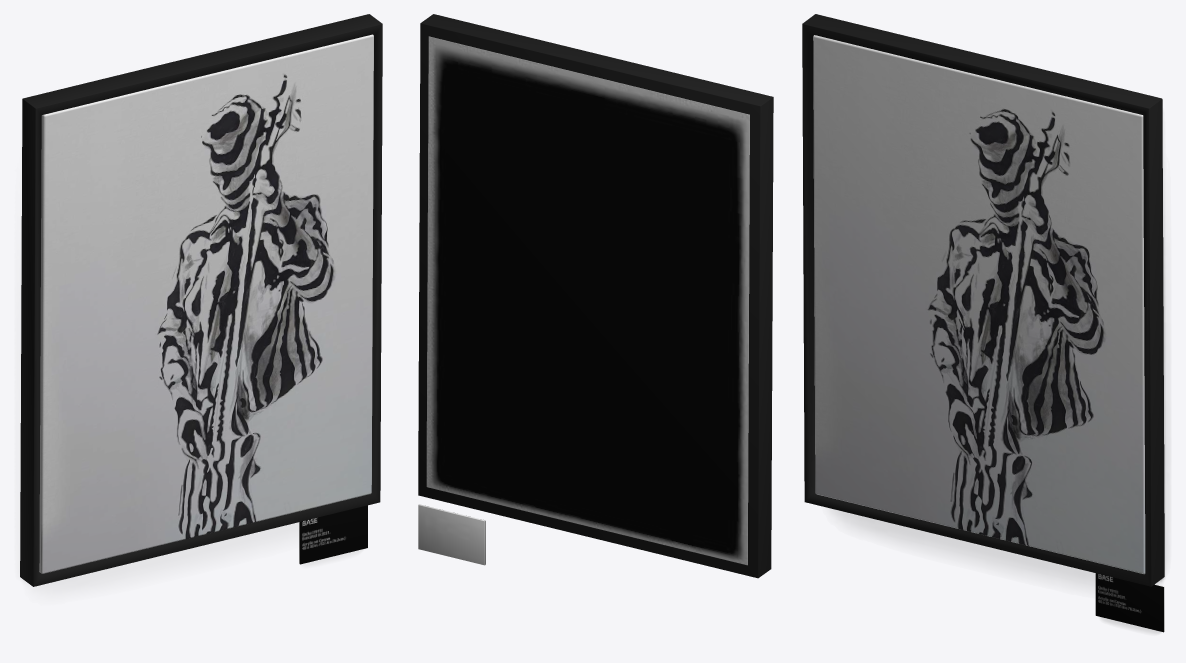
3 renders of one model, left to right at view 1: azimuth 30°, elevation 25°; view 2: azimuth 150°, elevation 25°; view 3: azimuth 330°, elevation 25°, orthographic. The views are drawn at different scales.
Visible parts, largest first — view 1: Canvas, frame, shadow, tag; view 2: Canvas, frame, tag; view 3: Canvas, frame, shadow, tag.
Part boxes in pixels (x1,y1,x2,y2): Canvas: (39,34,373,573); frame: (20,14,382,586); shadow: (20,214,298,594); tag: (299,505,367,564); Canvas: (426,36,749,565); frame: (418,14,773,578); tag: (418,504,485,565); Canvas: (813,35,1145,574); frame: (802,14,1164,586); shadow: (832,158,1168,586); tag: (1095,573,1164,632).
Bounding box in the file's own units: 8.29 × 12.14 × 0.6285.
3 materials, 2 textured.
